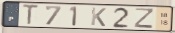1: (68, 6, 78, 28)
2: (111, 6, 131, 29)
7: (44, 5, 63, 26)
K: (90, 6, 108, 28)
T: (22, 4, 40, 27)
Z: (133, 7, 156, 30)
